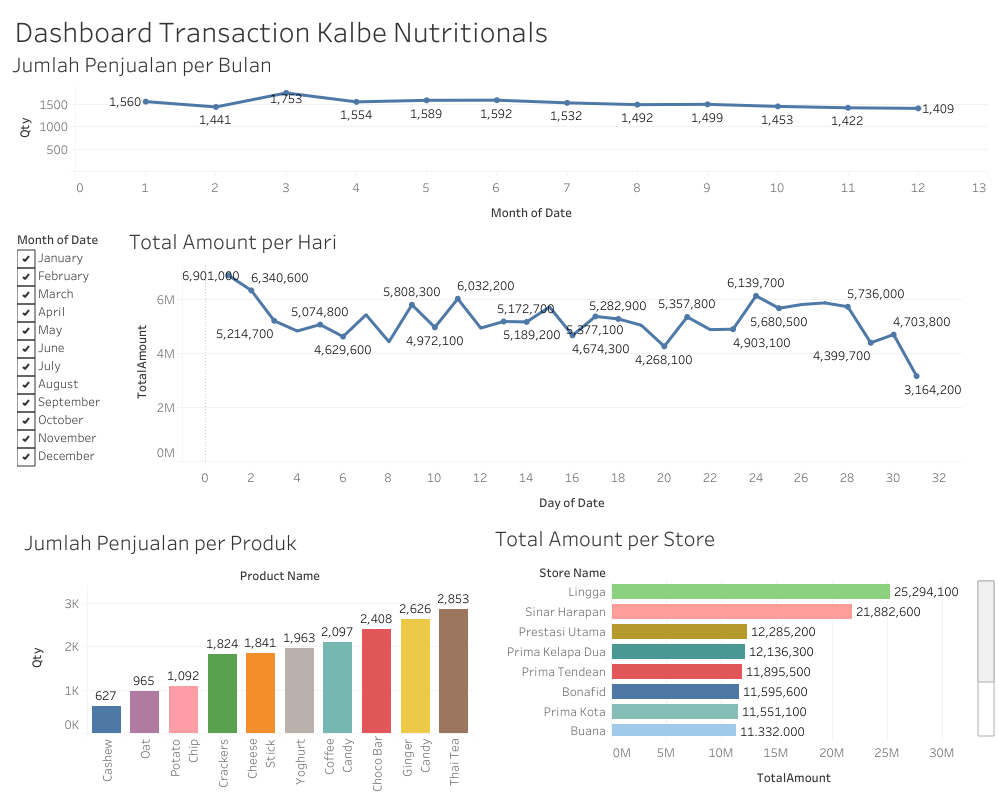

The page's visual inventory and layout, read from the dashboard file:
{"tool":"tableau","page":{"name":"Dashboard 1","canvas":[1000,800],"ordinal":0},"visuals":[{"type":"title","box":[8,8,984,46]},{"type":"worksheet","title":"Sheet 1","mark":"Automatic","rows":["Qty"],"cols":["Date"],"box":[8,44,980,184]},{"type":"worksheet","title":"Sheet 2","mark":"Automatic","rows":["TotalAmount"],"cols":["Date"],"box":[125,221,837,297]},{"type":"filter","title":"Sheet 2","param":"[federated.1v9ls381ktv49016i04o71tk1xwt].[mn:Date:ok]","box":[17,229,109,285]},{"type":"worksheet","title":"Sheet 4","mark":"Automatic","rows":["StoreName"],"cols":["TotalAmount"],"box":[491,518,504,275]},{"type":"worksheet","title":"Sheet 3","mark":"Automatic","rows":["Qty"],"cols":["Product Name"],"box":[20,522,453,271]}]}

Visuals, with their boxes in screenshot pixels (x1, y1, x2, y2), scaled from the page's 1000x800 canvas onto the 999x799 screenshot:
title: [8,8,991,54]
"Sheet 1" worksheet: [8,44,987,228]
"Sheet 2" worksheet: [125,221,961,517]
"Sheet 2" filter: [17,229,126,513]
"Sheet 4" worksheet: [491,517,994,792]
"Sheet 3" worksheet: [20,521,473,792]
